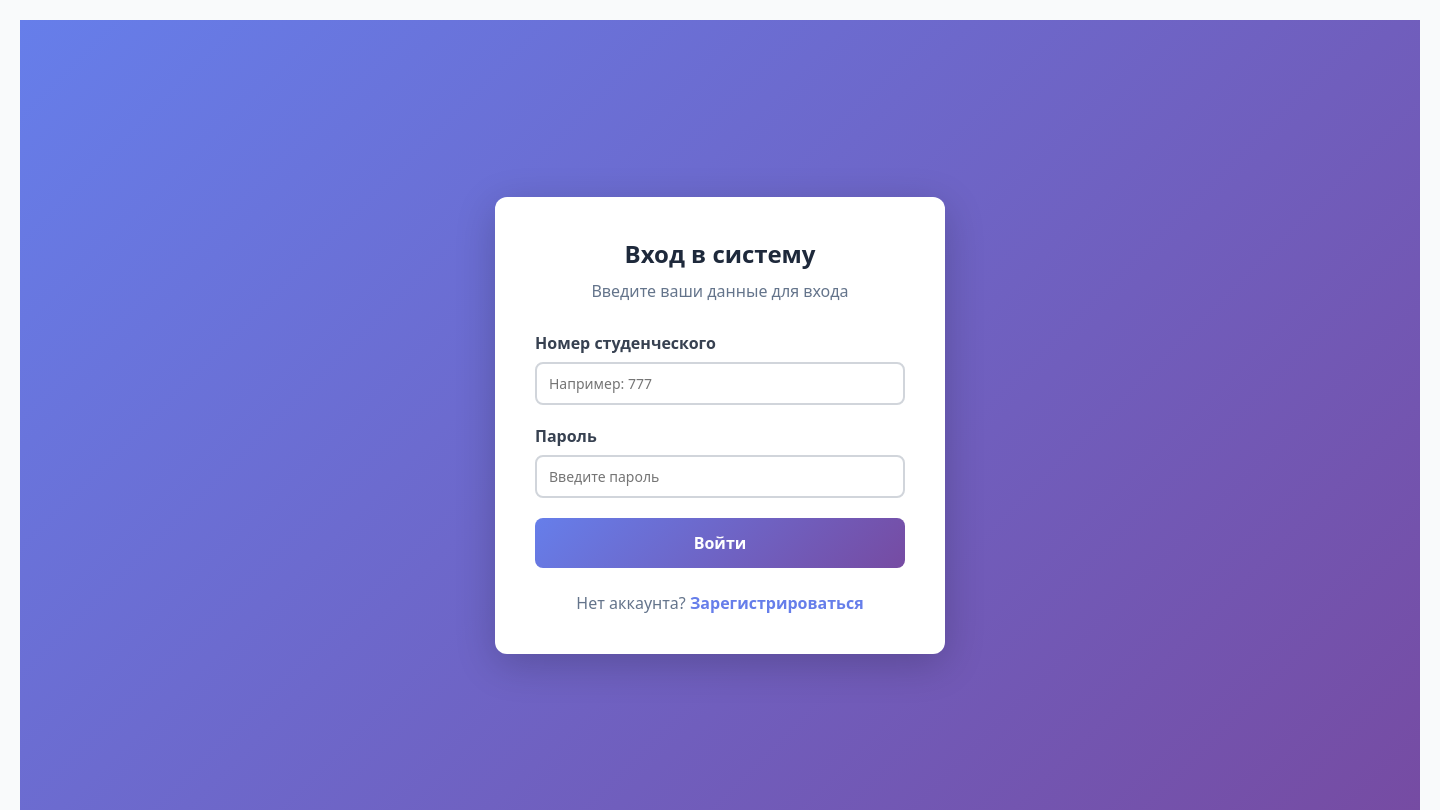
Test case: Login Component › shows error on invalid credentials
Type "INVALID" into the field with placeholder "Например: 777" at x=720, y=383, box [535,362,905,404]
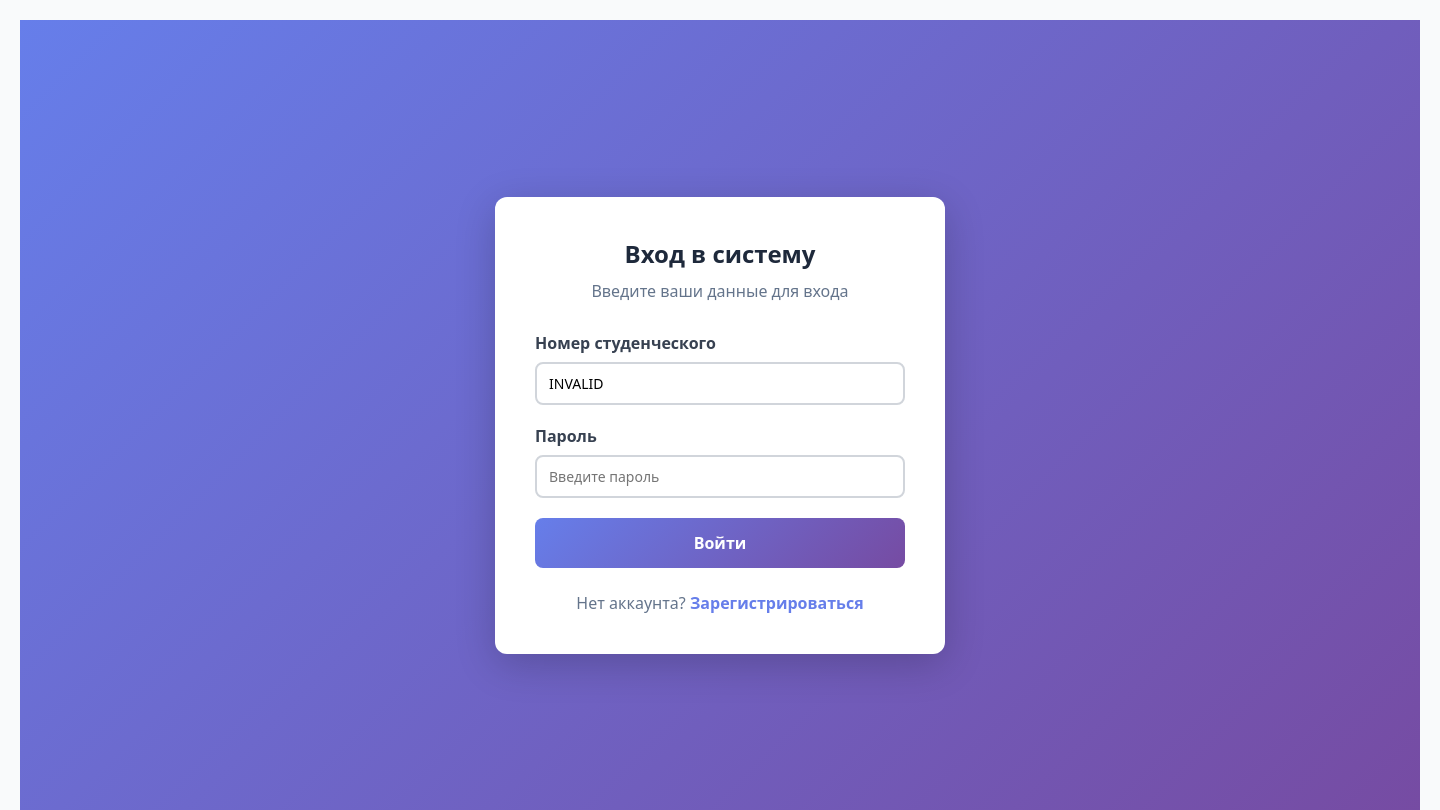
Type "wrong" into the password field with placeholder "Введите пароль" at x=720, y=476, box [535,454,905,498]
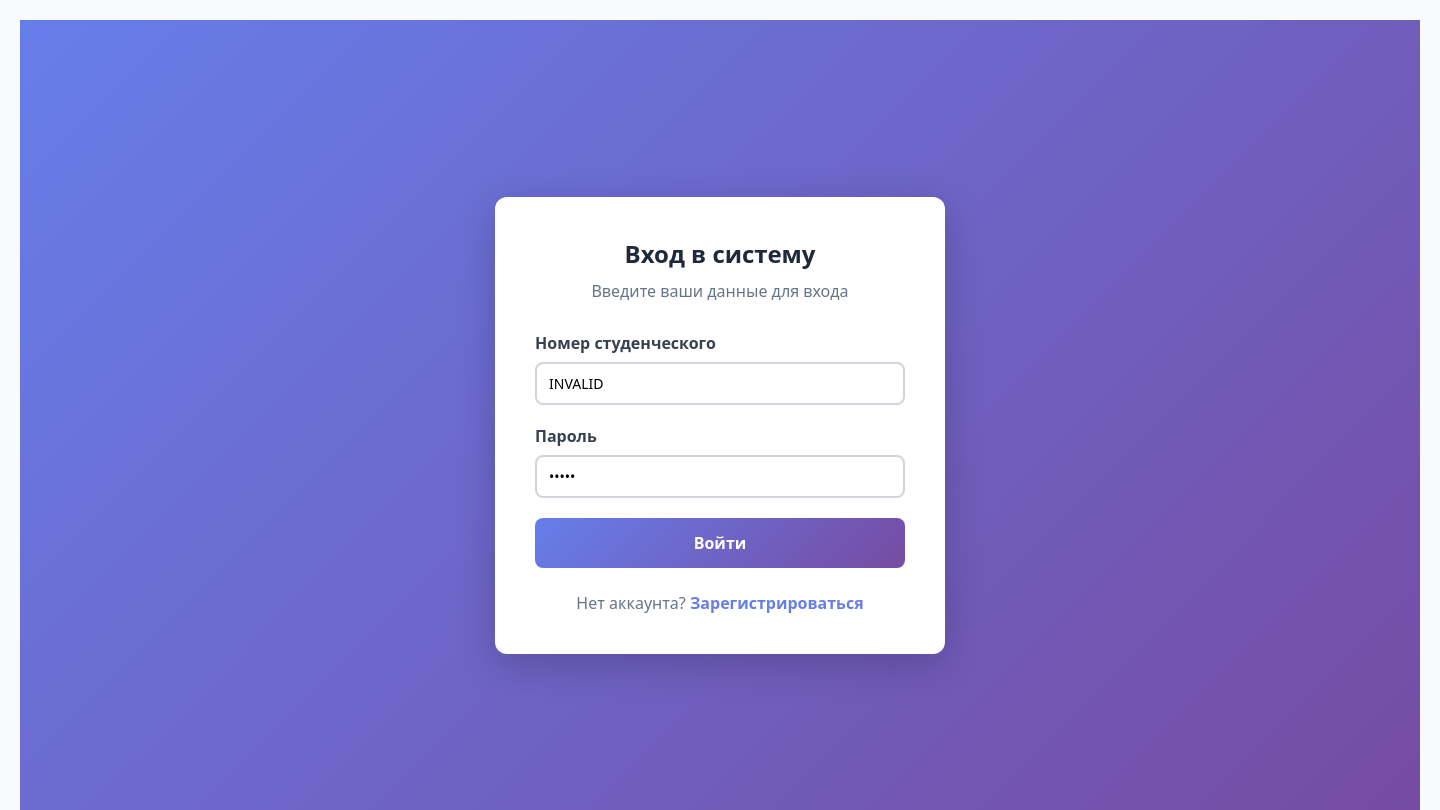
Click the button "Войти" at x=720, y=542, box [535,518,905,568]
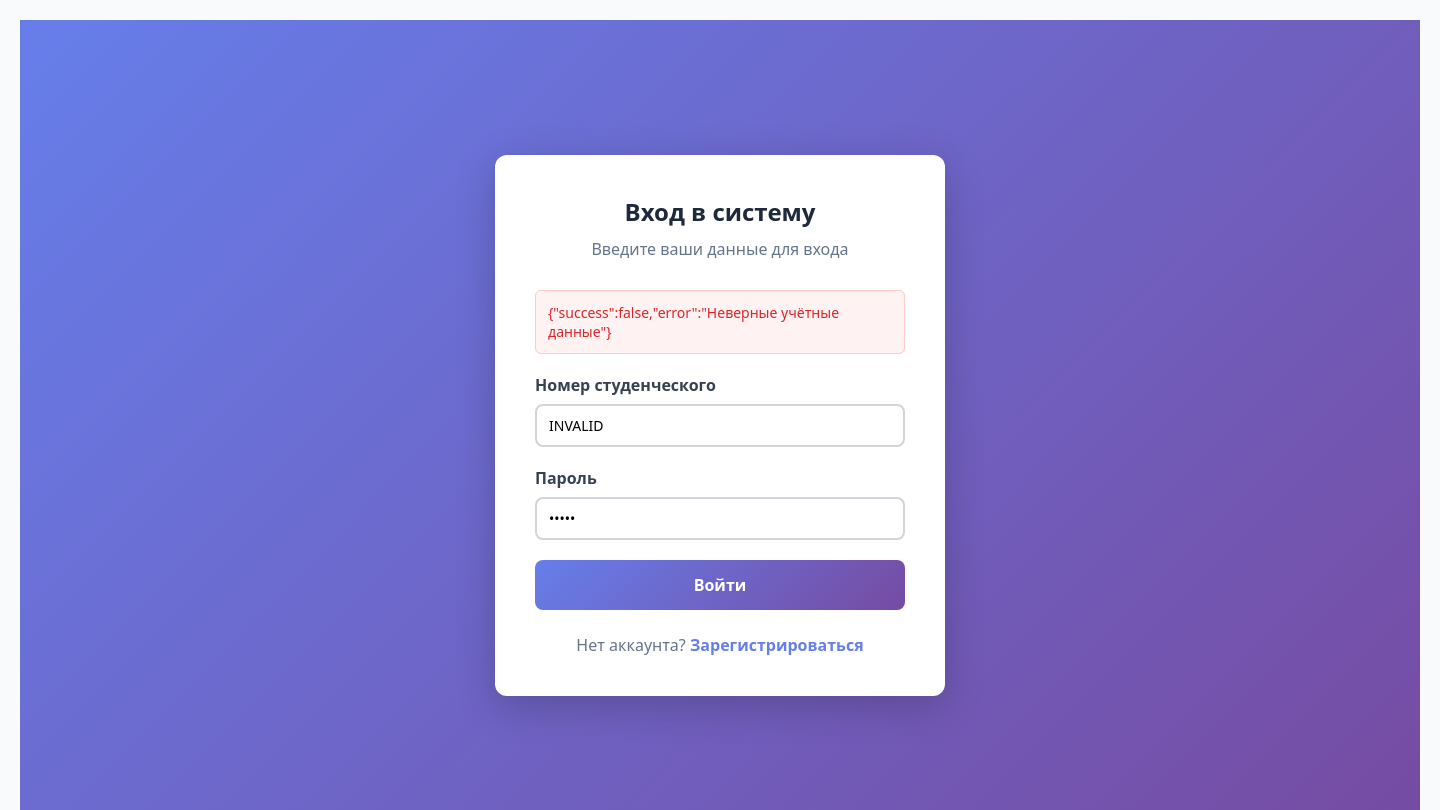
Expected: the text "{\"success\":false,\"error\":\"Неверные учётные данные\"}" is shown, [535,290,905,354]
